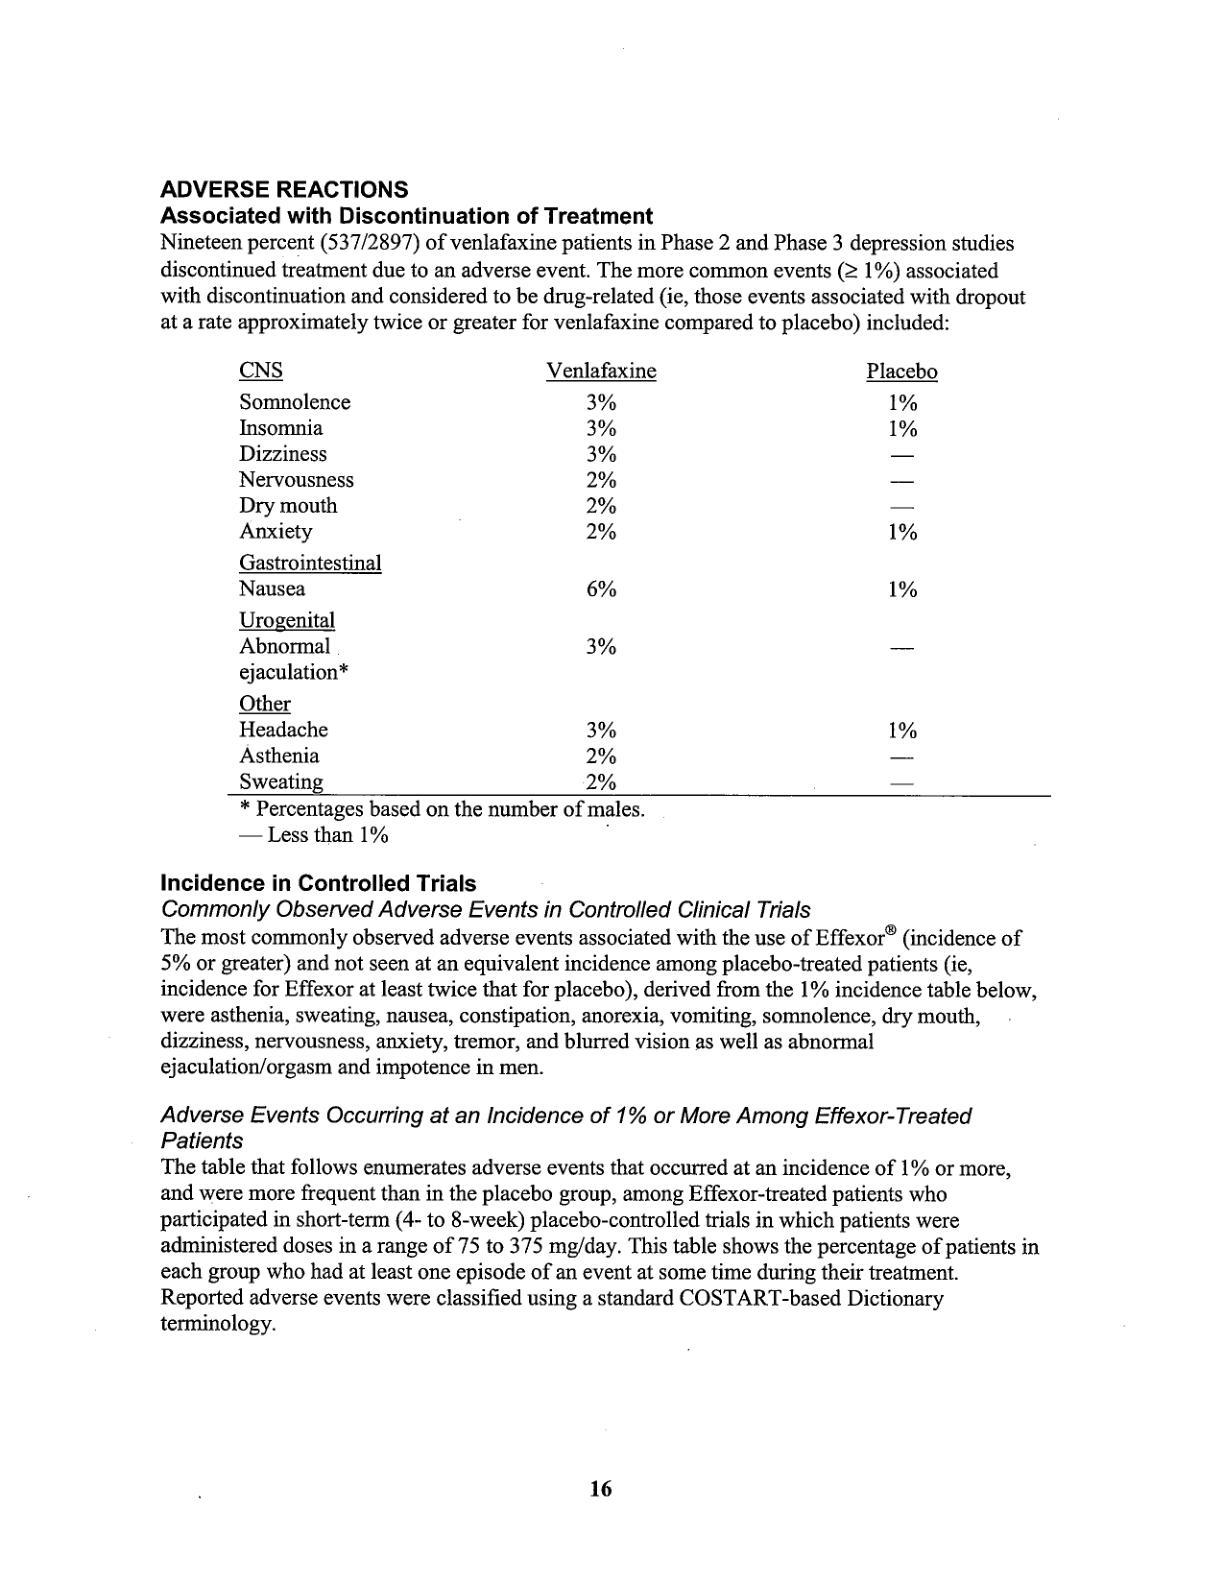partial_lined: (228, 355, 1058, 800)
